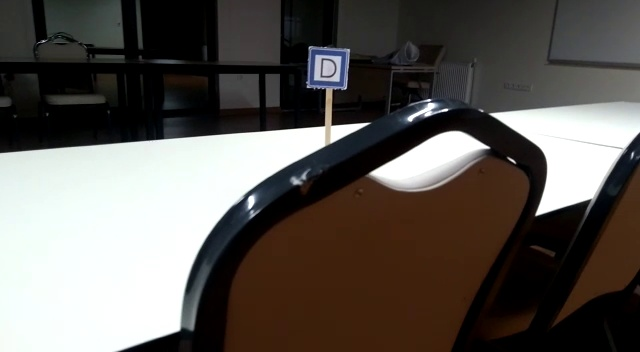durak: (307, 48, 348, 88)
